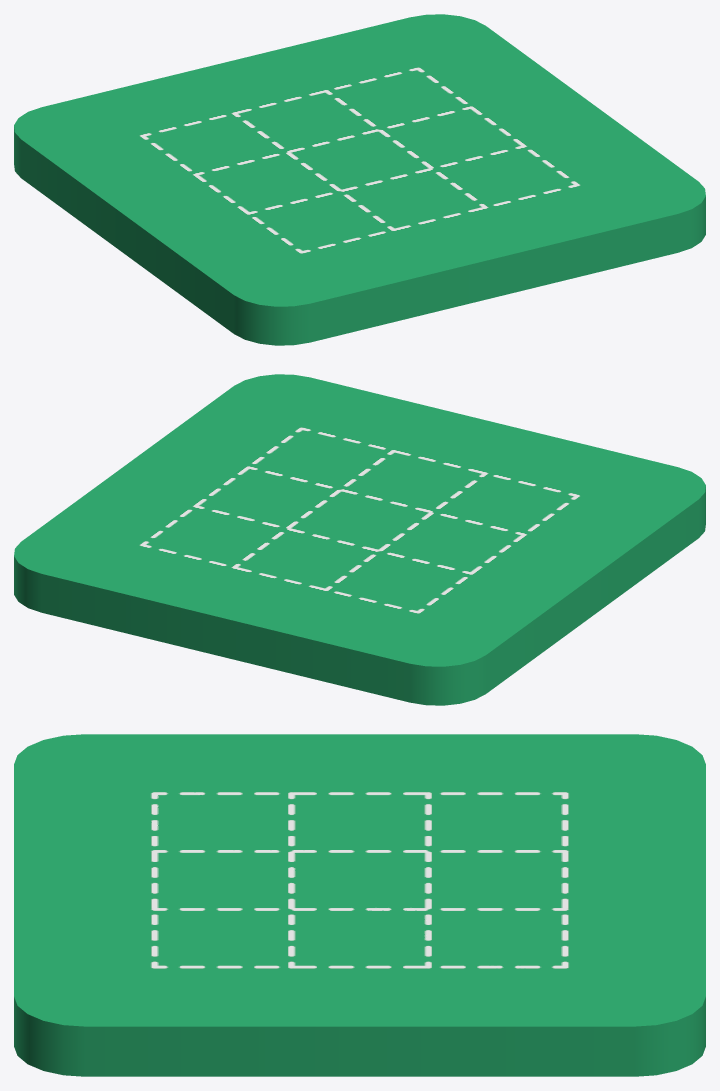
Rendered from Ground.fbx.
3 views of the same model, one above another, from view 1: azimuth 30°, elevation 25°; view 2: azimuth 150°, elevation 25°; view 3: azimuth 270°, elevation 25° (orthographic). The views are drawn at different scales.
Parts seen in each view (by area): view 1: Cube; view 2: Cube; view 3: Cube.
Part boxes in pixels (left/top/right/bottom): Cube: left=14, top=14, right=705, bottom=345; Cube: left=14, top=374, right=705, bottom=705; Cube: left=14, top=734, right=705, bottom=1076.
Bounding box in the file's own units: 1000 × 80 × 1000.
1 material, 1 textured.
